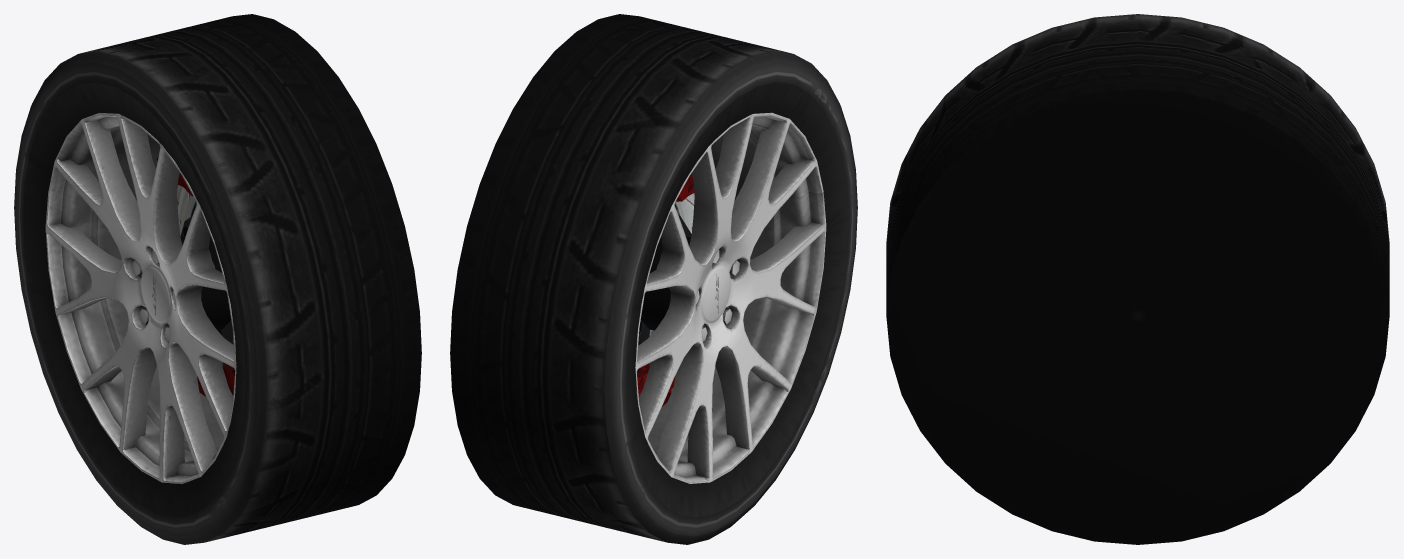
File: chargerSRT2015.fbx
The picture shows the model from 3 angles, left to right: view 1: azimuth 30°, elevation 25°; view 2: azimuth 150°, elevation 25°; view 3: azimuth 270°, elevation 25°; orthographic projection.
Visible parts, largest first — view 1: Tirefl_garage, Tirefr_garage, Rimfl_garage_vcolor, brake_disk_fl_garage; view 2: Tirefr_garage, Tirefl_garage, Rimfl_garage_vcolor, Rimfr_garage_vcolor, brake_disk_fl_garage; view 3: Tirefr_garage, Tirefl_garage, Tire_LP_fr_garage, Tire_LP_fl_garage.
Part boxes in pixels (bbox=[...]): Tirefl_garage: bbox=[14, 20, 421, 544]; Tirefr_garage: bbox=[14, 14, 421, 543]; Rimfl_garage_vcolor: bbox=[45, 113, 236, 483]; brake_disk_fl_garage: bbox=[177, 185, 233, 344]; Tirefr_garage: bbox=[450, 14, 857, 544]; Tirefl_garage: bbox=[450, 19, 857, 541]; Rimfl_garage_vcolor: bbox=[635, 112, 826, 483]; Rimfr_garage_vcolor: bbox=[640, 236, 690, 330]; brake_disk_fl_garage: bbox=[638, 193, 694, 345]; Tirefr_garage: bbox=[886, 14, 1389, 544]; Tirefl_garage: bbox=[886, 14, 1389, 544]; Tire_LP_fr_garage: bbox=[966, 147, 1323, 428]; Tire_LP_fl_garage: bbox=[962, 150, 1324, 466].
Size of the model in its own units: 0.996 by 2.65 by 2.65.
